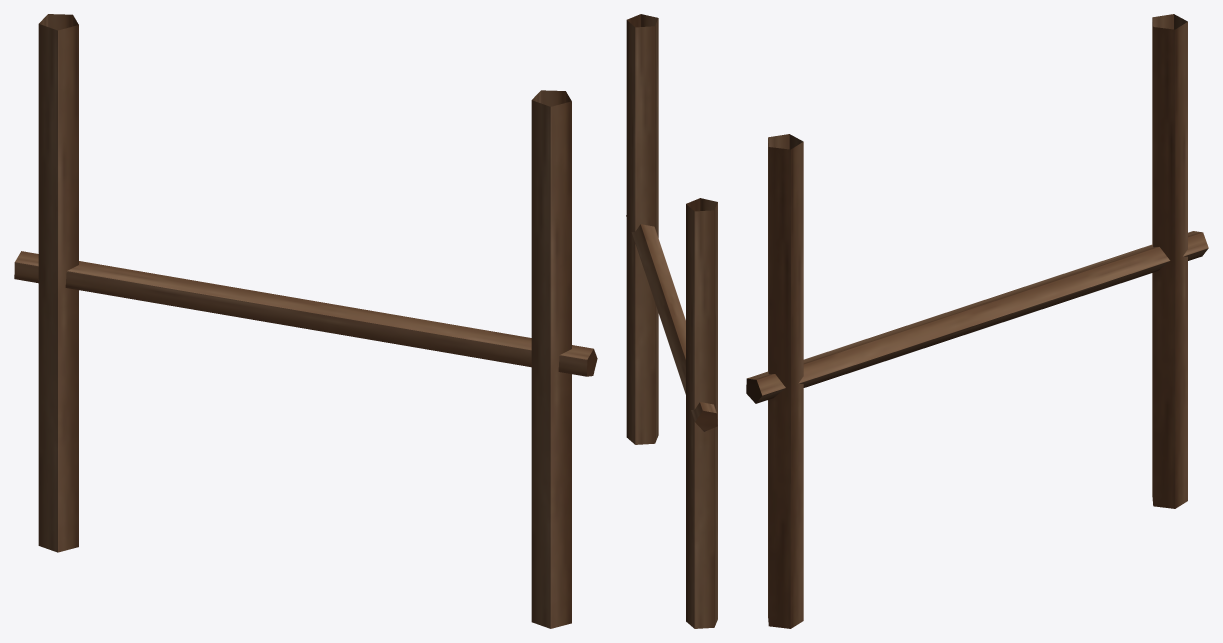
Rendered from Area_02_14.fbx.
The picture shows the model from 3 angles, left to right: view 1: azimuth 30°, elevation 25°; view 2: azimuth 150°, elevation 25°; view 3: azimuth 270°, elevation 25°; orthographic projection. The views are drawn at different scales.
Parts seen in each view (by area): view 1: Area_02_14; view 2: Area_02_14; view 3: Area_02_14.
Boxes of the visible parts, x1=… form: Area_02_14: x1=14, y1=14, x2=597, y2=628; Area_02_14: x1=626, y1=14, x2=717, y2=628; Area_02_14: x1=746, y1=14, x2=1208, y2=628.
Size of the model in its own units: 245 by 355 by 306.
